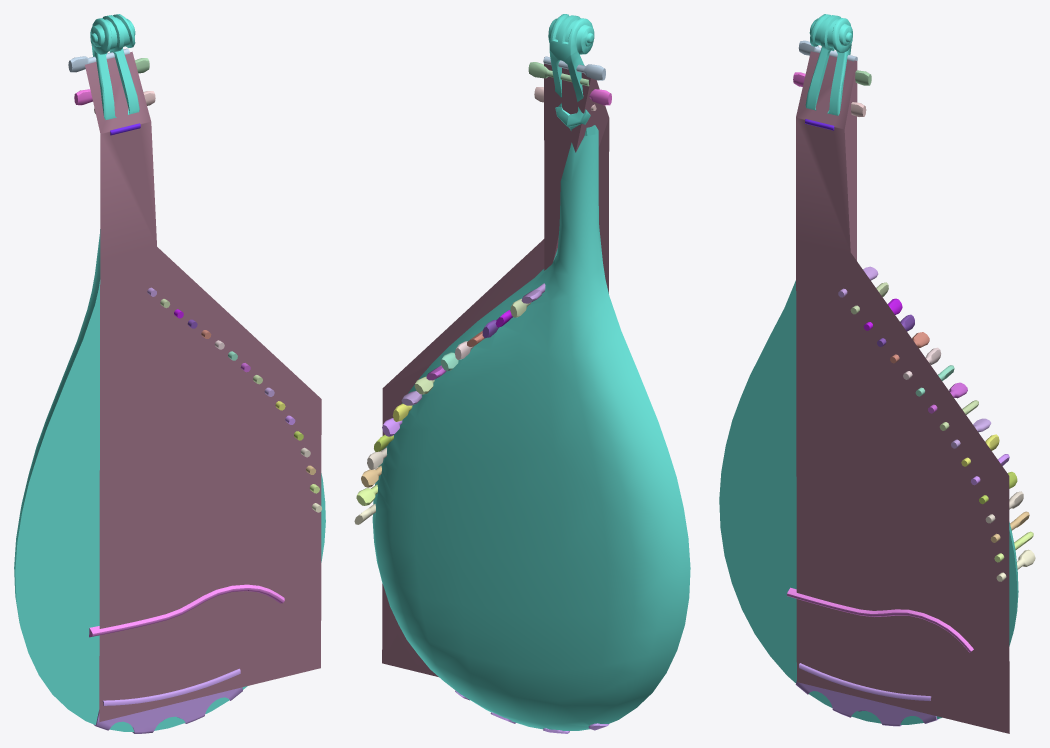
3 renders of one model, left to right at view 1: azimuth 30°, elevation 25°; view 2: azimuth 150°, elevation 25°; view 3: azimuth 330°, elevation 25°, orthographic. The views are drawn at different scales.
Parts seen in each view (by area): view 1: split_parent_24, split_parent_0, Object_3.004, Object_3.028; view 2: split_parent_0, split_parent_24; view 3: split_parent_24, split_parent_0, Object_3.004, Object_3.028.
Boxes of the visible parts, bbox=[...] form: split_parent_24: bbox=[85, 51, 321, 721]; split_parent_0: bbox=[14, 14, 325, 732]; Object_3.004: bbox=[93, 668, 242, 733]; Object_3.028: bbox=[89, 584, 284, 637]; split_parent_0: bbox=[372, 14, 690, 730]; split_parent_24: bbox=[382, 57, 609, 676]; split_parent_24: bbox=[796, 51, 1009, 733]; split_parent_0: bbox=[719, 14, 1018, 724]; Object_3.004: bbox=[795, 663, 938, 726]; Object_3.028: bbox=[787, 587, 973, 652].
Size of the model in its own units: 0.4546 by 1 by 0.0846.
